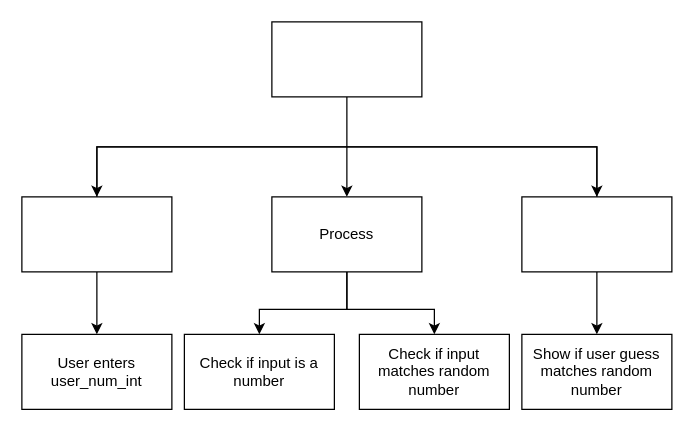
The diagram is 694 pixels wide and 431 high, and some of its shapes have lost their labels. The shapes that lost their labels are listed below. From the top down, each one's centre as x and y in pixels, then its label:
At (x=346, y=59): "Number Guessing Game".
At (x=96, y=234): "Input".
At (x=596, y=234): "Output".
